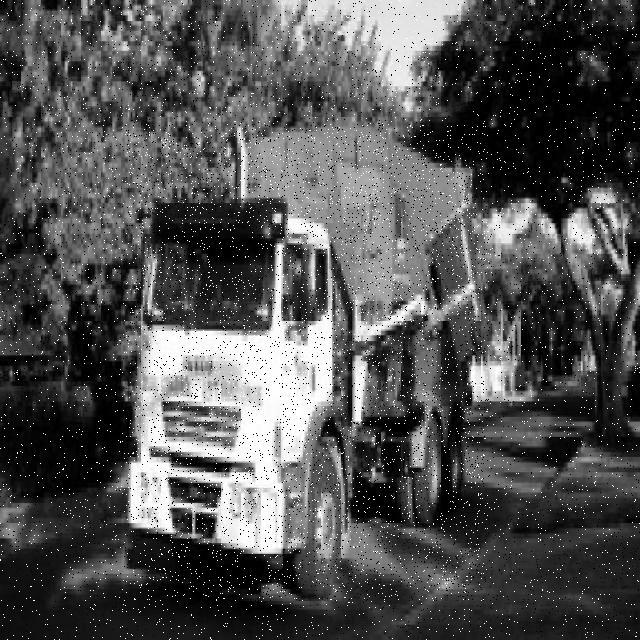Garbage Truck: (126, 123, 489, 601)
